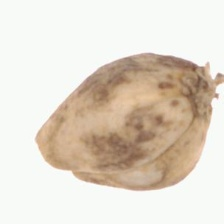L1: (32, 135, 81, 180), (186, 62, 222, 117)
L2: (34, 52, 223, 191)
